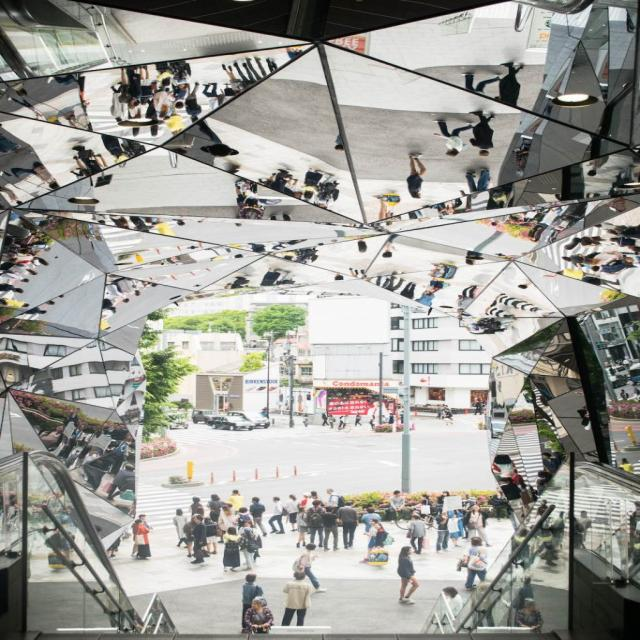body: (482, 58, 640, 500), (0, 65, 130, 574), (127, 48, 350, 304), (352, 190, 486, 329), (404, 70, 482, 204), (509, 501, 640, 577), (478, 575, 547, 639), (291, 543, 329, 594), (280, 569, 313, 627), (459, 536, 491, 590), (394, 544, 420, 604), (366, 522, 396, 568), (241, 574, 264, 628), (242, 596, 274, 634), (335, 499, 359, 549), (237, 526, 262, 572), (465, 503, 490, 548), (130, 513, 155, 557), (188, 512, 209, 564), (318, 504, 340, 552), (219, 525, 241, 571), (305, 500, 326, 548), (358, 517, 379, 563), (406, 512, 427, 555), (247, 496, 268, 538), (267, 495, 289, 534), (445, 509, 465, 549), (440, 586, 465, 618), (434, 507, 451, 554), (133, 518, 152, 560), (490, 486, 513, 520), (387, 488, 407, 524), (182, 514, 198, 558), (202, 516, 220, 555), (205, 493, 224, 528), (284, 493, 301, 532), (172, 508, 188, 549), (411, 492, 434, 520), (324, 488, 346, 516), (360, 506, 382, 533), (295, 506, 309, 548), (462, 503, 482, 531), (236, 519, 261, 540), (296, 492, 314, 521), (233, 506, 256, 528), (227, 488, 244, 516), (436, 490, 452, 515), (304, 490, 322, 510), (459, 496, 477, 516), (365, 400, 388, 414), (191, 506, 206, 524), (190, 496, 203, 516), (293, 389, 304, 412), (218, 503, 236, 515), (276, 388, 286, 408), (336, 414, 348, 429), (442, 404, 453, 420), (473, 398, 483, 415), (398, 409, 408, 425), (386, 412, 395, 429), (478, 400, 487, 416), (436, 404, 445, 420), (368, 414, 377, 430), (380, 414, 390, 428), (326, 414, 336, 428), (320, 411, 329, 426), (354, 412, 363, 426), (442, 408, 453, 418), (261, 406, 270, 418), (302, 418, 309, 428)
